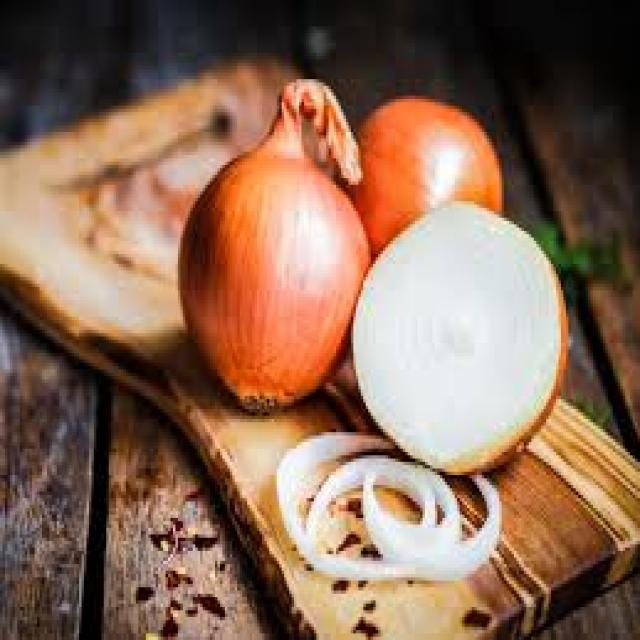Onion: (332, 185, 580, 491), (135, 90, 345, 410), (337, 98, 540, 258)
